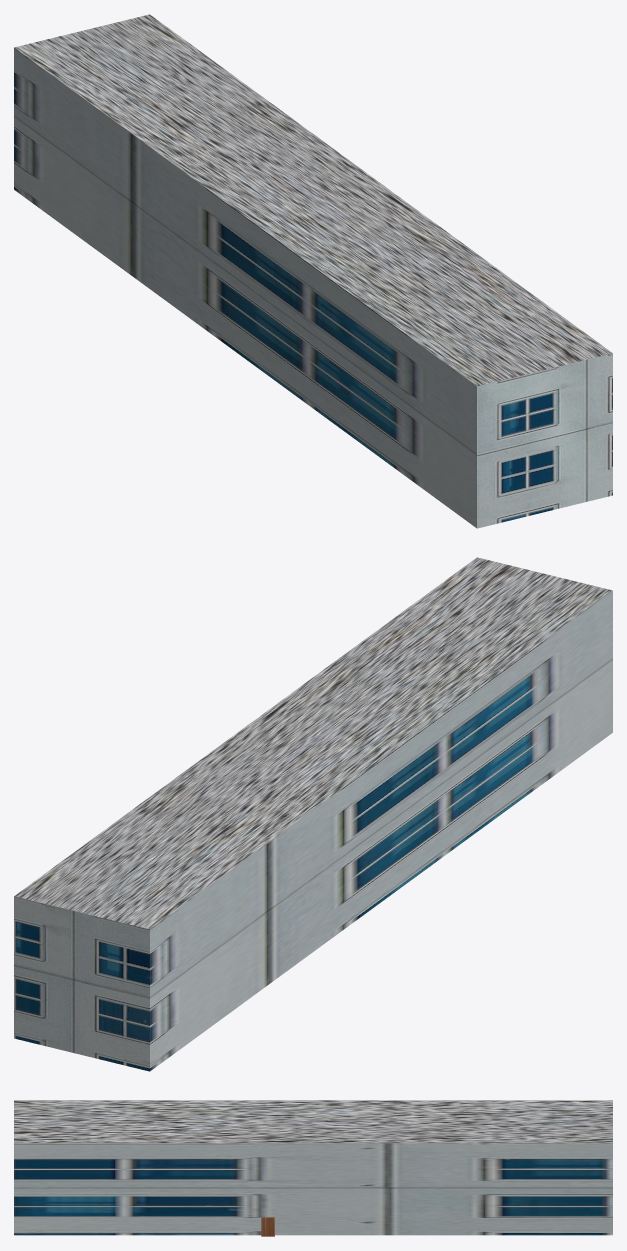
File: edificio1.obj
The picture shows the model from 3 angles, top to bottom: view 1: azimuth 30°, elevation 25°; view 2: azimuth 150°, elevation 25°; view 3: azimuth 270°, elevation 25°; orthographic projection. The views are drawn at different scales.
Visible parts, largest first — view 1: Cube.001; view 2: Cube.001; view 3: Cube.001, Cube.
Part boxes in pixels (left/top/right/bottom): Cube.001: left=14, top=14, right=612, bottom=528; Cube.001: left=14, top=557, right=612, bottom=1071; Cube.001: left=14, top=1100, right=612, bottom=1235; Cube: left=261, top=1217, right=274, bottom=1236.
Size of the model in its own units: 10.81 by 10.8 by 63.2.
3 materials, 3 textured.
